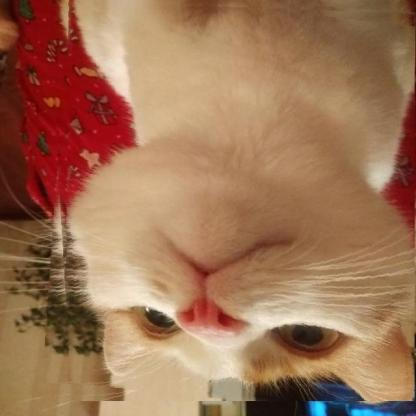cat: (48, 0, 415, 401)
